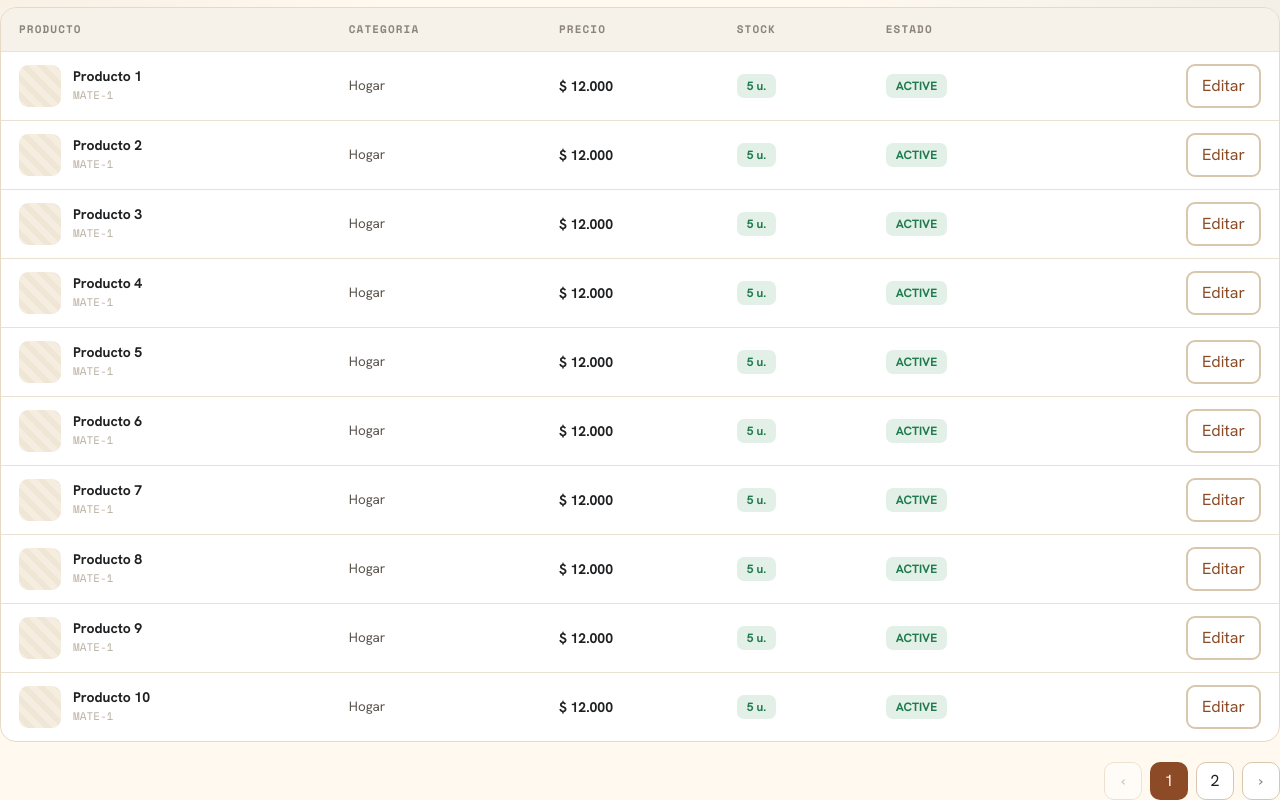
Test case: product list paginates at 10 rows and reveals the rest on page 2
(page scrolled)
Expected: the text "Producto 1" is shown, top-left (73, 68), bottom-right (142, 85)
Expected: the text "Producto 10" is shown, top-left (73, 688), bottom-right (150, 706)
What coordinates should you click on to do the following:
click the button "2"
I would click on:
 (1215, 780)
Its box is top-left (1196, 762), bottom-right (1234, 799).
(page scrolled)
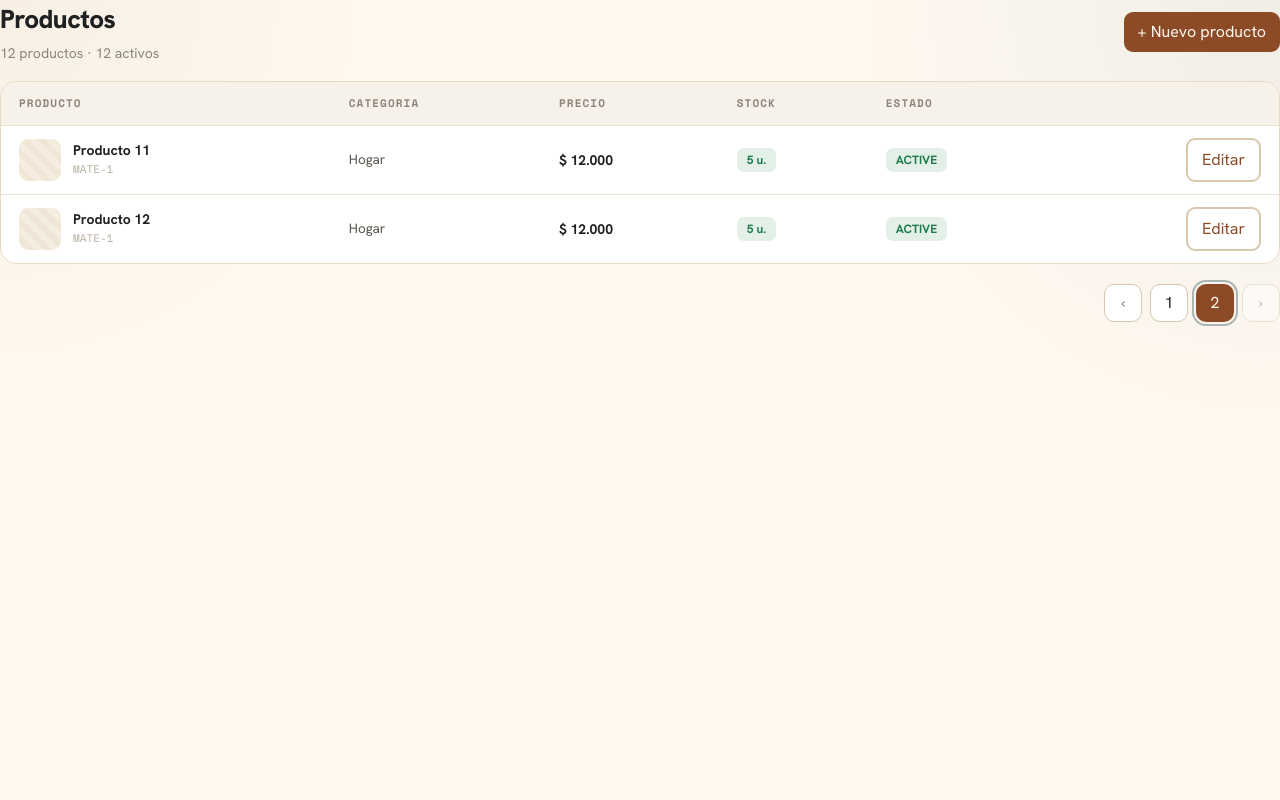
Expected: the text "Producto 11" is shown, top-left (73, 142), bottom-right (150, 159)
Expected: the text "Producto 12" is shown, top-left (73, 210), bottom-right (150, 228)
